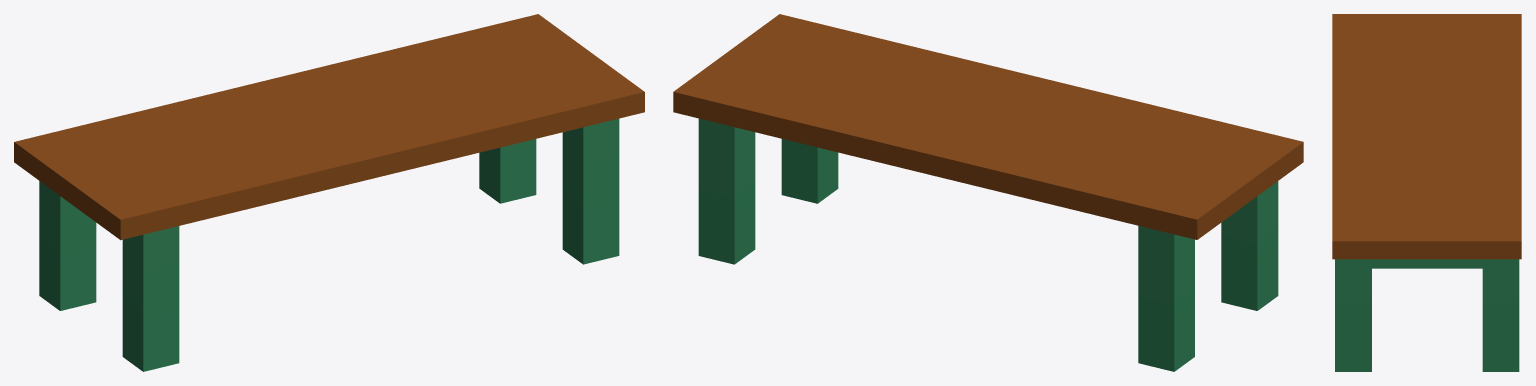
The model's file is Bench_1_C_8.fbx.
3 views of the same model, side by side, from view 1: azimuth 30°, elevation 25°; view 2: azimuth 150°, elevation 25°; view 3: azimuth 270°, elevation 25° (orthographic). The views are drawn at different scales.
Parts seen in each view (by area): view 1: Bench_1_C_8; view 2: Bench_1_C_8; view 3: Bench_1_C_8.
Part boxes in pixels (x1,y1,x2,y2): Bench_1_C_8: [14, 14, 644, 371]; Bench_1_C_8: [673, 14, 1303, 371]; Bench_1_C_8: [1332, 14, 1521, 371].
Size of the model in its own units: 116 by 33.54 by 40.68.
